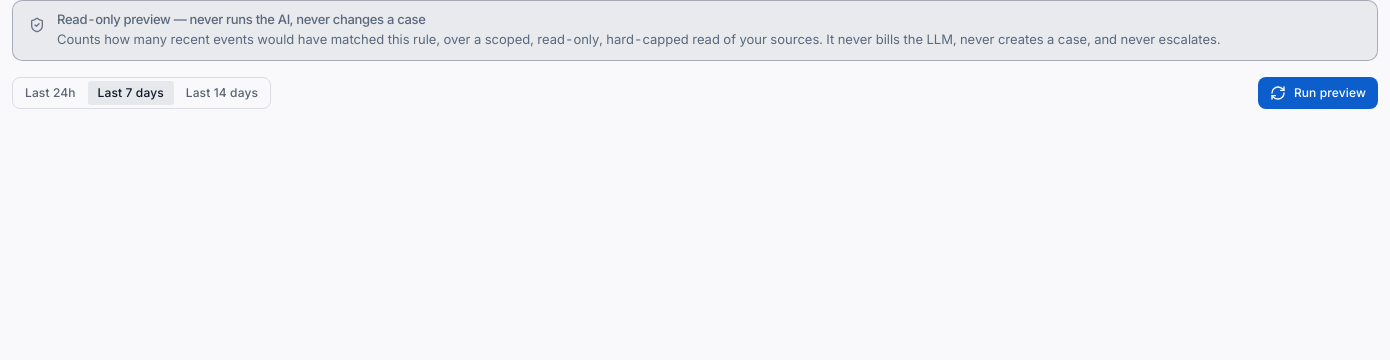
Scenario: RulePreviewPanel › renders the match count + histogram from the pure result
The image size is (1390, 360).
Click the button "Run preview". click: (1318, 93)
box: [1258,77,1378,109]
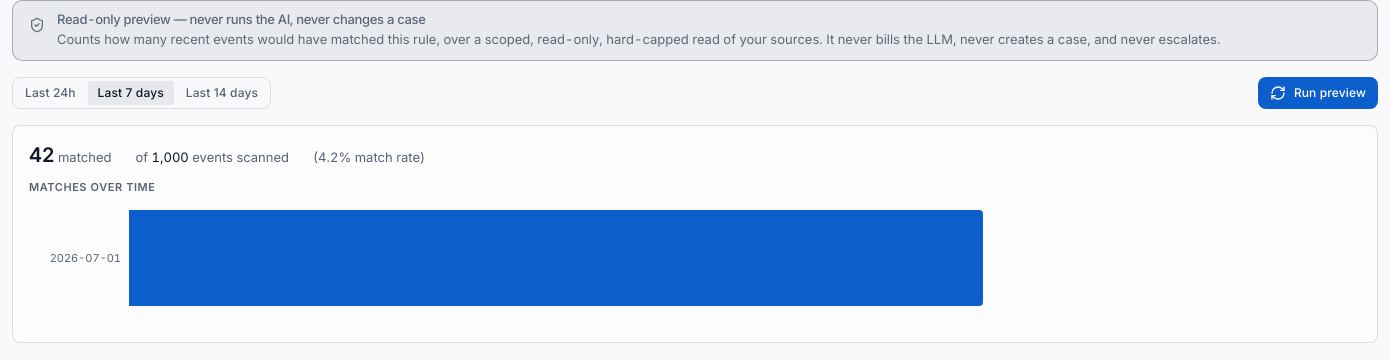
expect the text "42" is shown: met, box [29,143,54,167]
expect the text "matched" is shown: met, box [58,149,112,165]
expect the text "1,000" is shown: met, box [152,149,189,165]
